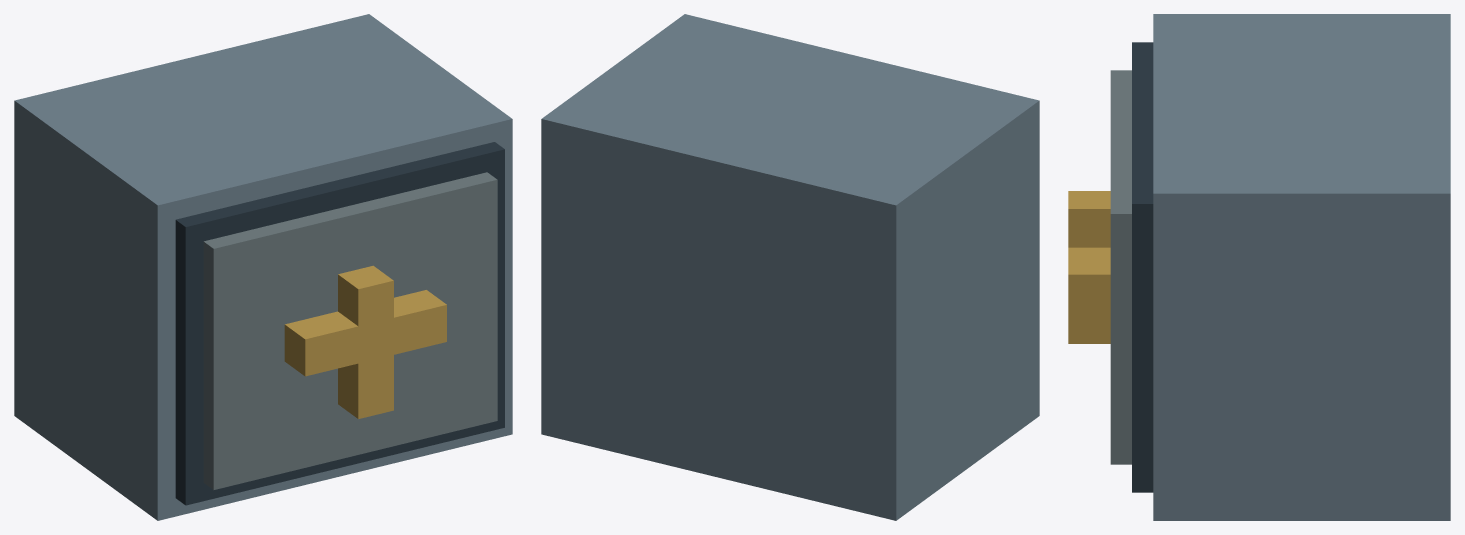
The model's file is film-10.glb.
The picture shows the model from 3 angles, left to right: view 1: azimuth 30°, elevation 25°; view 2: azimuth 150°, elevation 25°; view 3: azimuth 270°, elevation 25°; orthographic projection. The views are drawn at different scales.
Parts seen in each view (by area): view 1: Prop chest; view 2: Prop chest; view 3: Prop chest.
Part boxes in pixels (x1,y1,x2,y2): Prop chest: (14,14,512,520); Prop chest: (541,14,1039,520); Prop chest: (1068,14,1450,520).
Bounding box in the file's own units: 1.6 × 1.36 × 1.44.
